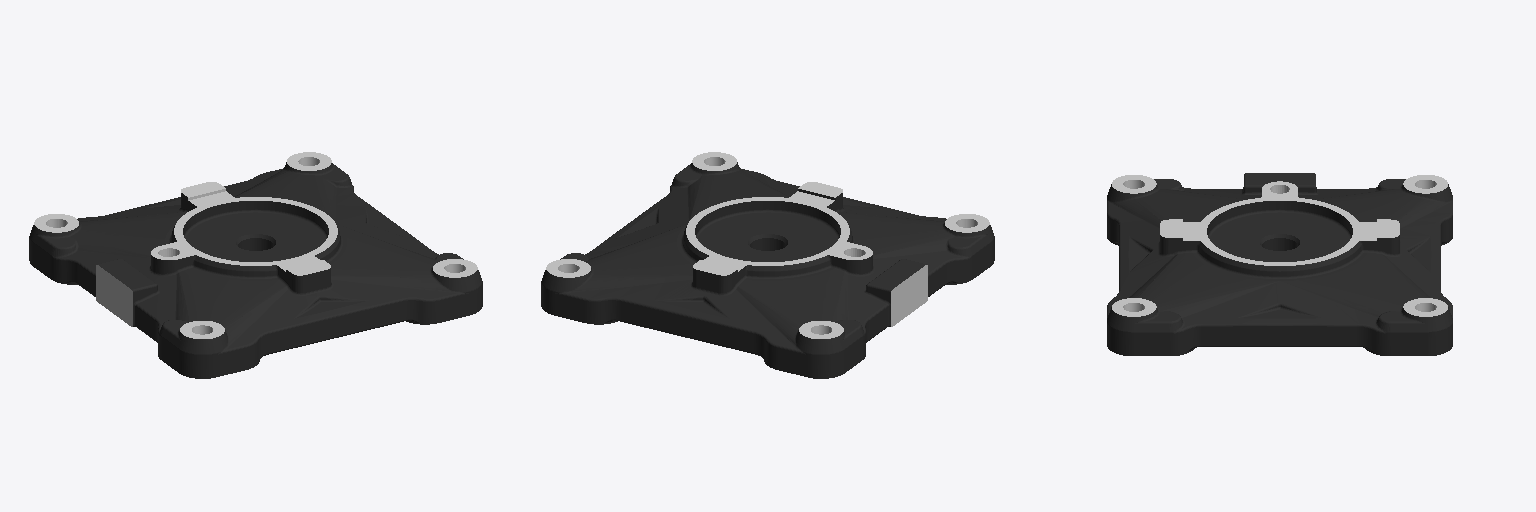
File: transform_0.obj
3 views of the same model, side by side, from view 1: azimuth 30°, elevation 25°; view 2: azimuth 150°, elevation 25°; view 3: azimuth 270°, elevation 25° (orthographic).
Visible parts, largest first — view 1: 1, 0; view 2: 1, 0; view 3: 1, 0.
Part boxes in pixels (x1,y1,x2,y2): 1: (29,162,482,378); 0: (34,152,477,338); 1: (541,162,994,378); 0: (546,152,989,338); 1: (1107,173,1452,355); 0: (1112,175,1447,316).
Size of the model in its own units: 285 by 49.5 by 285.